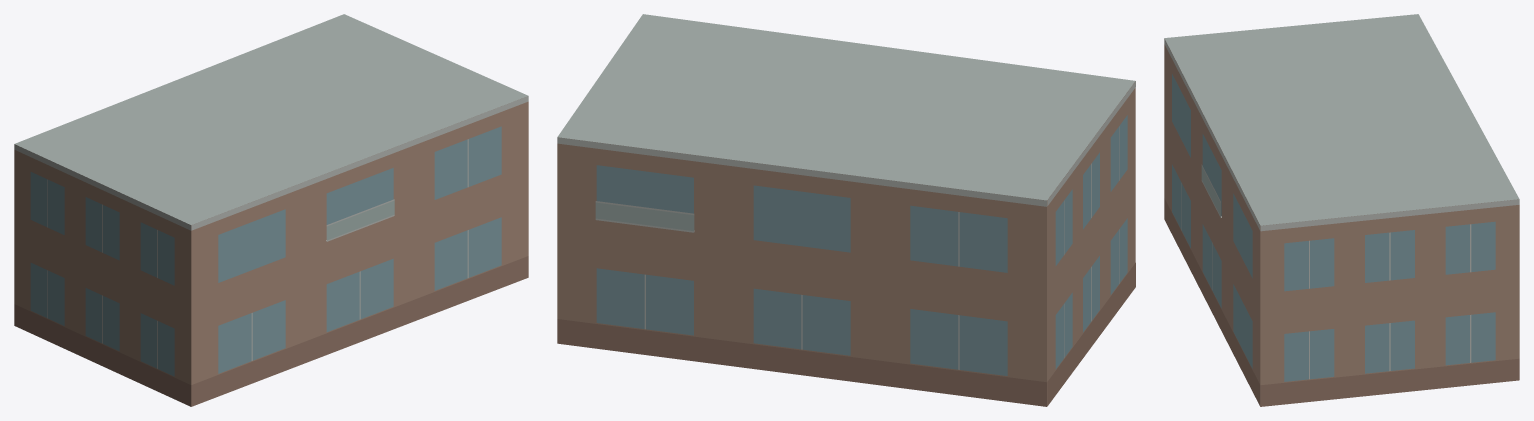
Rendered from survey-upis-32853791.glb.
3 renders of one model, left to right at view 1: azimuth 30°, elevation 25°; view 2: azimuth 150°, elevation 25°; view 3: azimuth 270°, elevation 25°, orthographic. The views are drawn at different scales.
Visible parts, largest first — view 1: survey-upis-32853791.tmp; view 2: survey-upis-32853791.tmp; view 3: survey-upis-32853791.tmp.
Boxes of the visible parts, x1=… form: survey-upis-32853791.tmp: x1=14, y1=14, x2=528, y2=406; survey-upis-32853791.tmp: x1=557, y1=14, x2=1135, y2=406; survey-upis-32853791.tmp: x1=1164, y1=14, x2=1519, y2=406.
Bounding box in the file's own units: 19.81 × 7.9 × 14.05.
